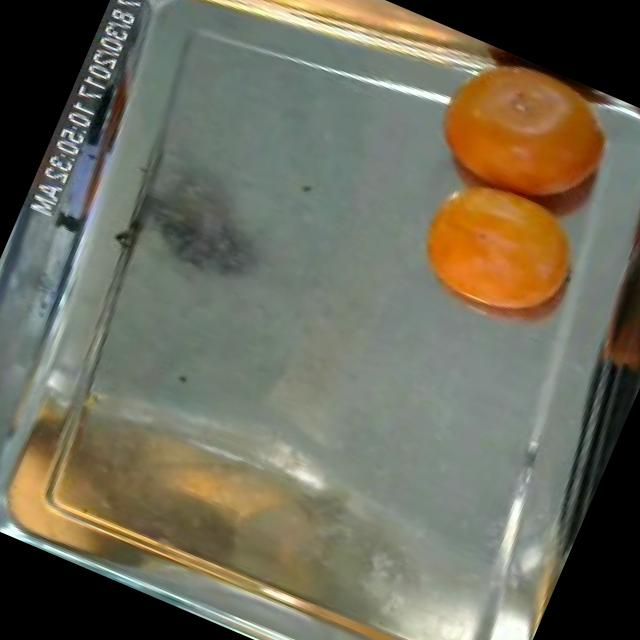Fruit: (391, 29, 640, 263), (379, 140, 630, 368), (17, 365, 278, 581)
